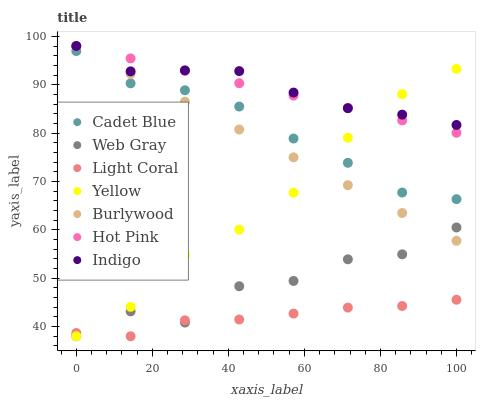axis: (48, 31, 63, 343), (62, 346, 480, 356)
legend: (58, 103, 187, 282)
point: (69, 38, 83, 51), (398, 107, 410, 119), (181, 85, 192, 97), (398, 186, 409, 198), (179, 316, 190, 327), (233, 122, 244, 133), (290, 151, 301, 161), (125, 78, 136, 88), (126, 52, 136, 63), (237, 101, 246, 113), (453, 66, 463, 76), (236, 78, 246, 88), (343, 159, 352, 169), (234, 224, 243, 234), (453, 236, 463, 245), (124, 66, 135, 74), (74, 328, 81, 340), (293, 88, 302, 97), (344, 303, 353, 312), (180, 67, 189, 76), (235, 68, 244, 77), (345, 104, 354, 112), (128, 333, 136, 341), (236, 283, 244, 290), (397, 302, 405, 309), (346, 256, 352, 263)
